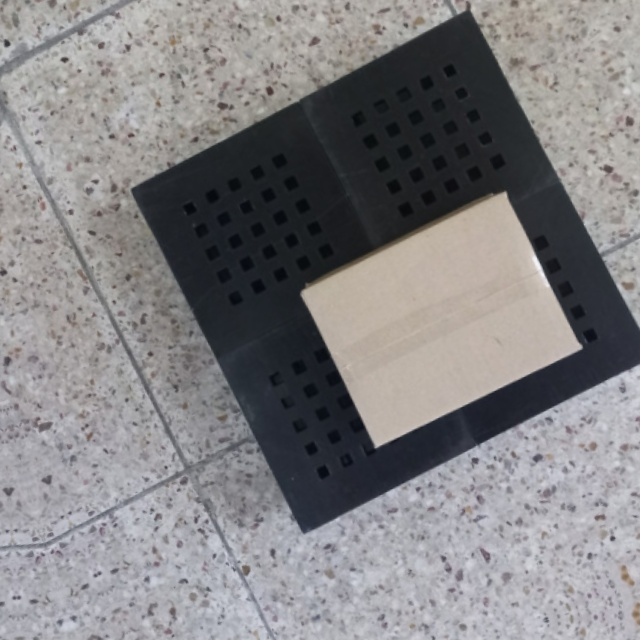box: (292, 182, 592, 461)
pallet: (121, 2, 640, 545)
